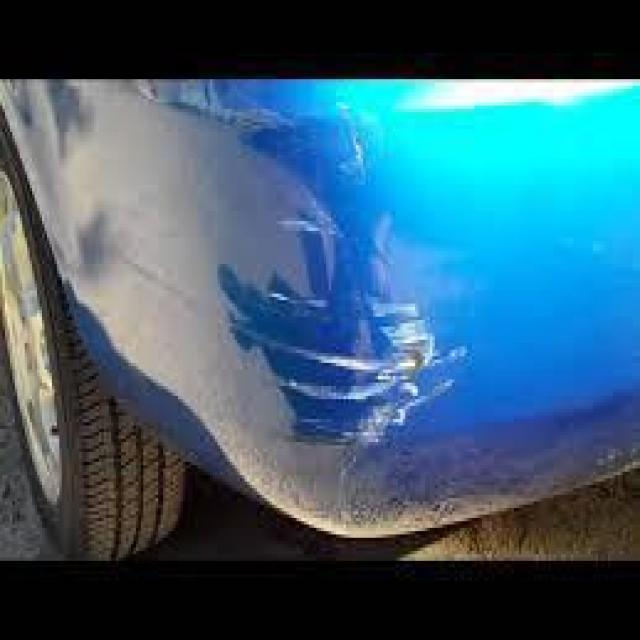damaged: (215, 92, 470, 446)
